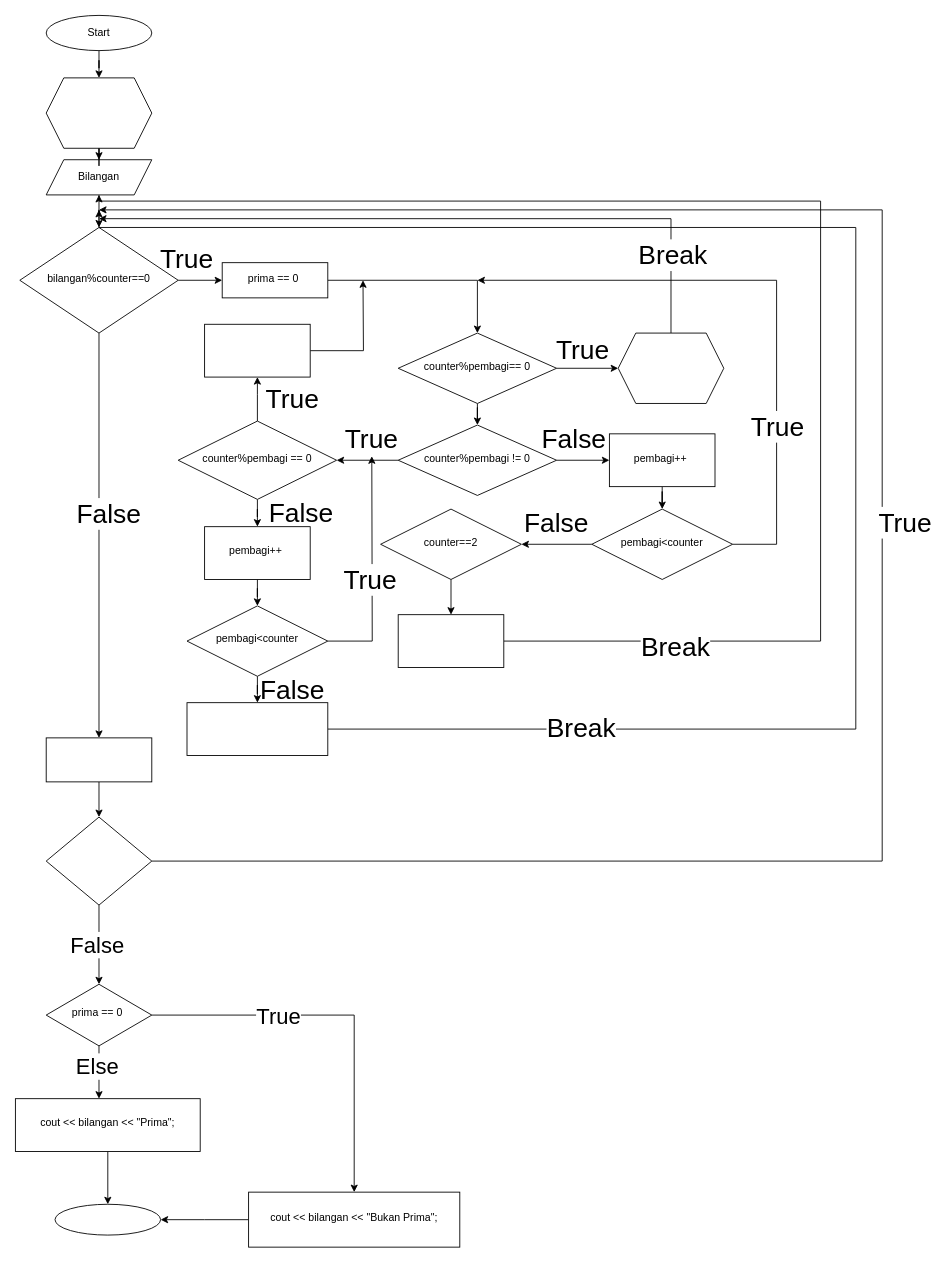
Some shapes in this 947 by 1263 pixel diagram are drawn without their labels. The shapes that lost their labels are listed below. From the top down, each one's box as (x1, y1, x2, y2) in pixels, then its label:
(45, 77, 152, 148): int bilangan int prima =1 int counter =2
(204, 323, 310, 377): counter + 1;
(617, 332, 724, 403): int prima =0 break
(397, 614, 504, 667): cout << counter
(186, 702, 328, 755): cout << counter << " "; break
(45, 737, 152, 782): counter++
(45, 816, 152, 905): counter<bilangan
(54, 1203, 161, 1235): End
